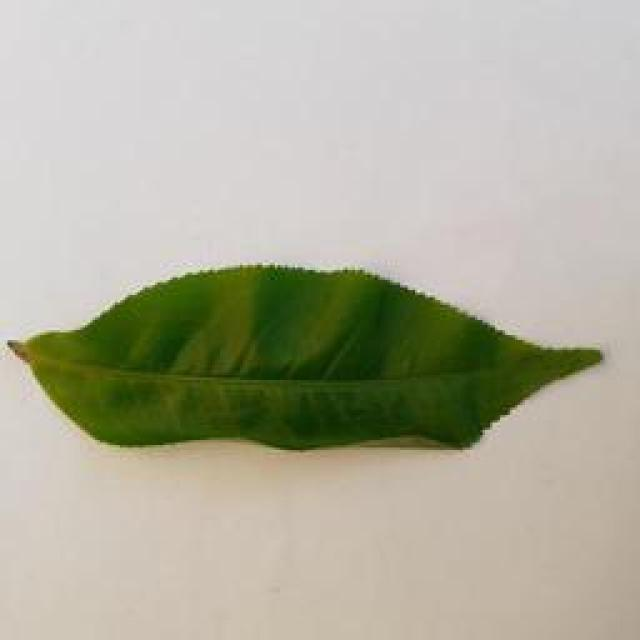Healthy: (7, 254, 636, 460)
